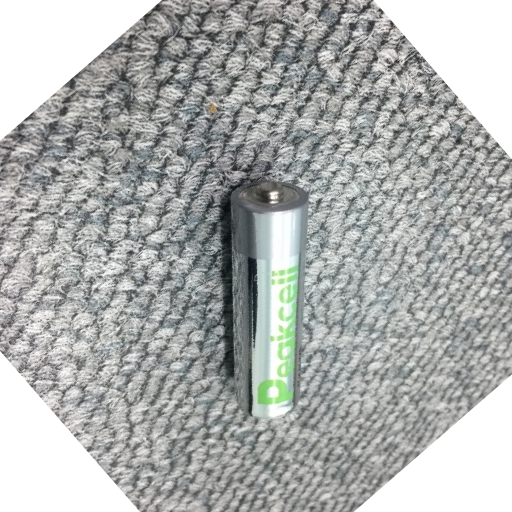Battery_0: (217, 173, 310, 424)
